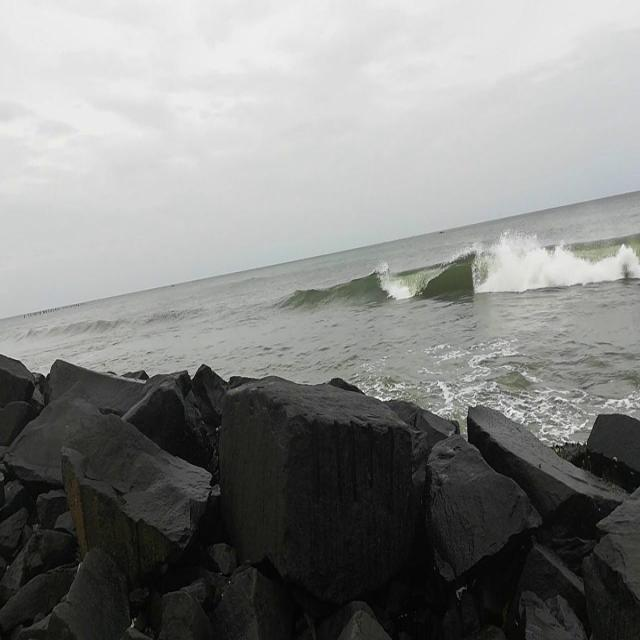other: (473, 216, 634, 296)
